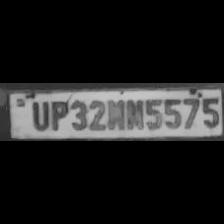2: (88, 97, 106, 131)
3: (68, 98, 88, 130)
5: (198, 95, 220, 129), (142, 96, 162, 130), (161, 96, 181, 130)
7: (180, 96, 198, 130)
N: (125, 97, 143, 131), (106, 97, 124, 130)
P: (50, 98, 68, 130)
U: (28, 99, 48, 130)
